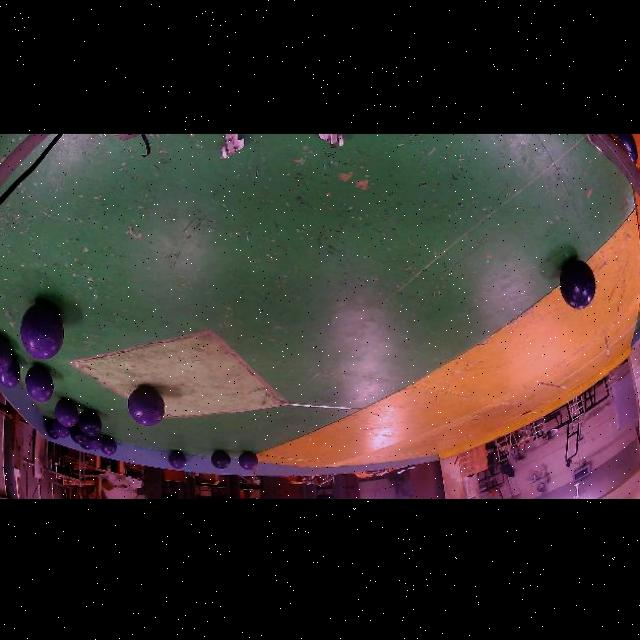B: (559, 260, 596, 310), (78, 410, 102, 437), (211, 451, 230, 470), (70, 425, 88, 445), (45, 421, 59, 440)
P: (21, 302, 64, 360), (127, 386, 164, 426), (26, 364, 54, 404), (55, 398, 79, 428), (0, 357, 21, 390), (0, 335, 12, 376), (239, 452, 258, 471), (83, 434, 103, 451), (168, 452, 186, 470), (53, 420, 70, 439), (101, 437, 117, 456)
